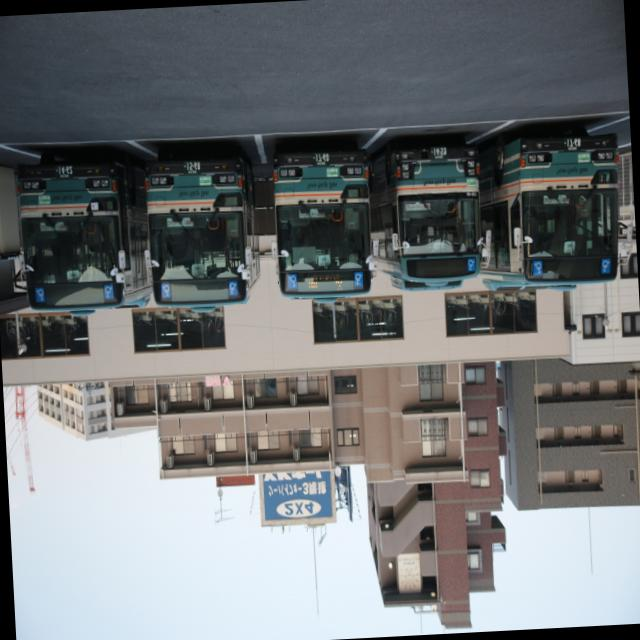bus: (472, 130, 638, 293), (11, 152, 158, 326), (136, 148, 264, 317), (364, 134, 495, 294), (264, 144, 378, 308)
